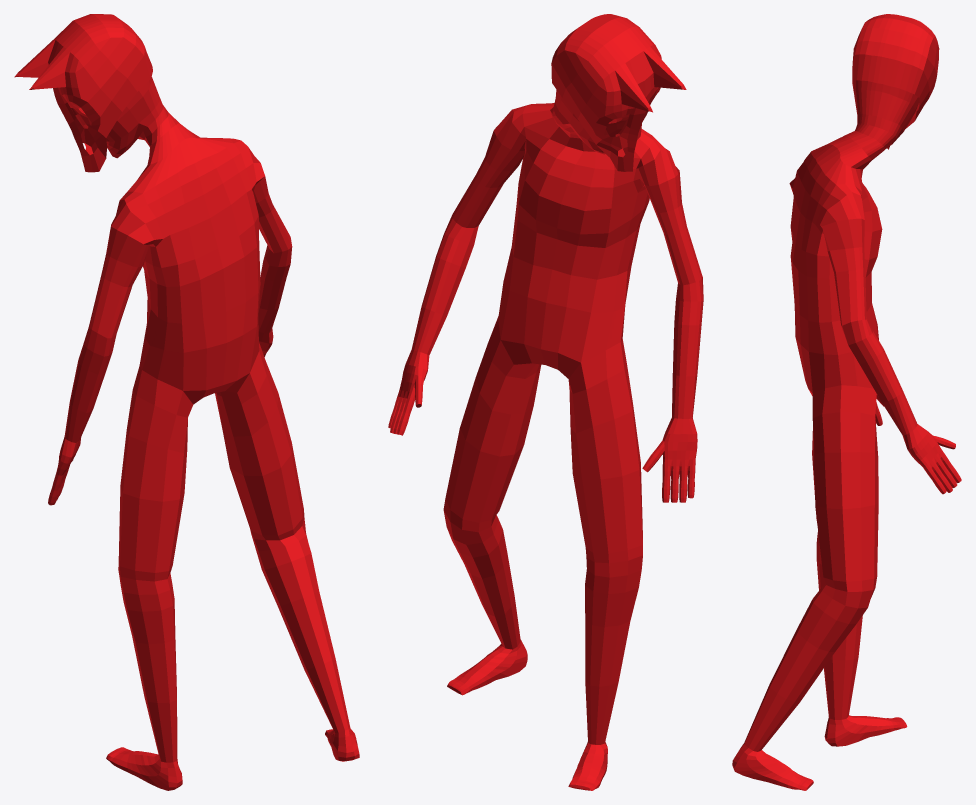
Rendered from reposoE_000245.obj.
3 renders of one model, left to right at view 1: azimuth 30°, elevation 25°; view 2: azimuth 150°, elevation 25°; view 3: azimuth 270°, elevation 25°, orthographic. The views are drawn at different scales.
Parts seen in each view (by area): view 1: Plane.002_Plane.001; view 2: Plane.002_Plane.001; view 3: Plane.002_Plane.001.
Part boxes in pixels (left/top/right/bottom): Plane.002_Plane.001: left=14, top=14, right=359, bottom=790; Plane.002_Plane.001: left=388, top=14, right=703, bottom=790; Plane.002_Plane.001: left=732, top=14, right=961, bottom=790.
Bounding box in the file's own units: 2.67 × 6.98 × 2.05.
